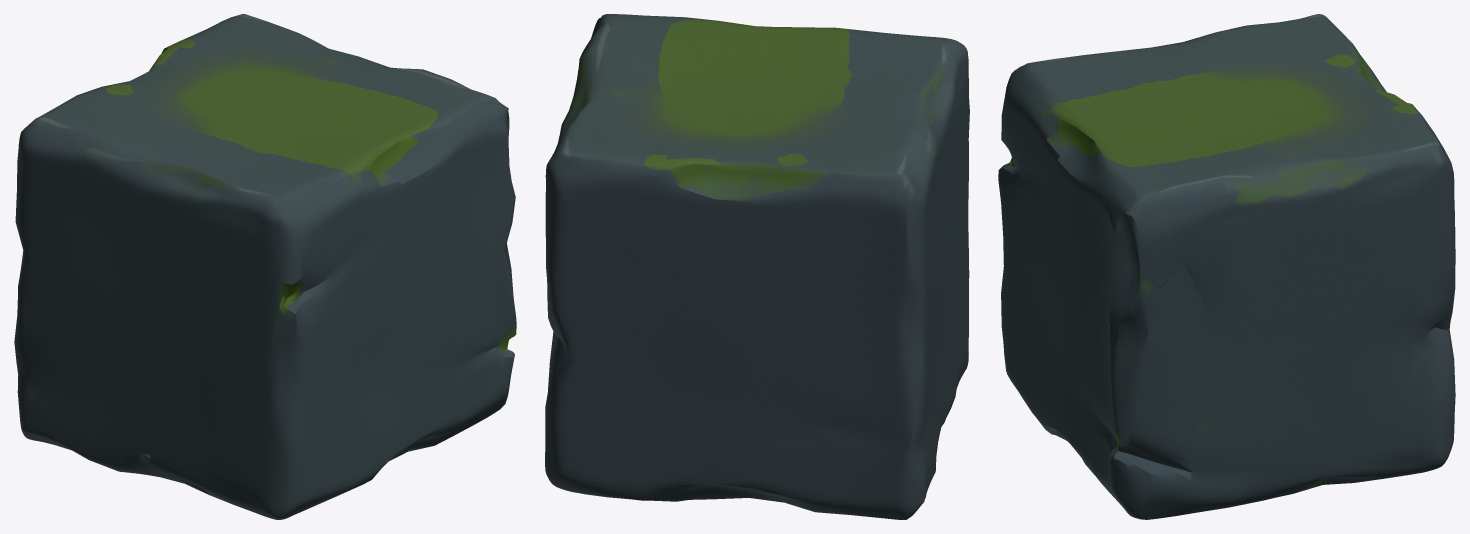
The model's file is brick_cinder_dungeon.glb.
3 views of the same model, side by side, from view 1: azimuth 30°, elevation 25°; view 2: azimuth 150°, elevation 25°; view 3: azimuth 270°, elevation 25° (orthographic). The views are drawn at different scales.
Visible parts, largest first — view 1: Mesh_0; view 2: Mesh_0; view 3: Mesh_0.
Boxes of the visible parts, bbox=[...] form: Mesh_0: bbox=[14, 14, 516, 519]; Mesh_0: bbox=[545, 14, 969, 519]; Mesh_0: bbox=[998, 14, 1455, 519].
Bounding box in the file's own units: 1.9 × 1.47 × 1.84.
Materials: 1 (1 with a texture image).
